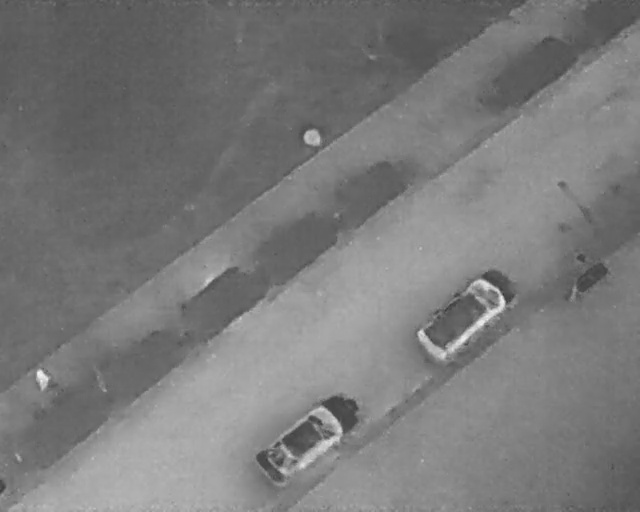Car: (246, 381, 371, 493), (409, 258, 525, 370)
Person: (34, 366, 50, 392)
